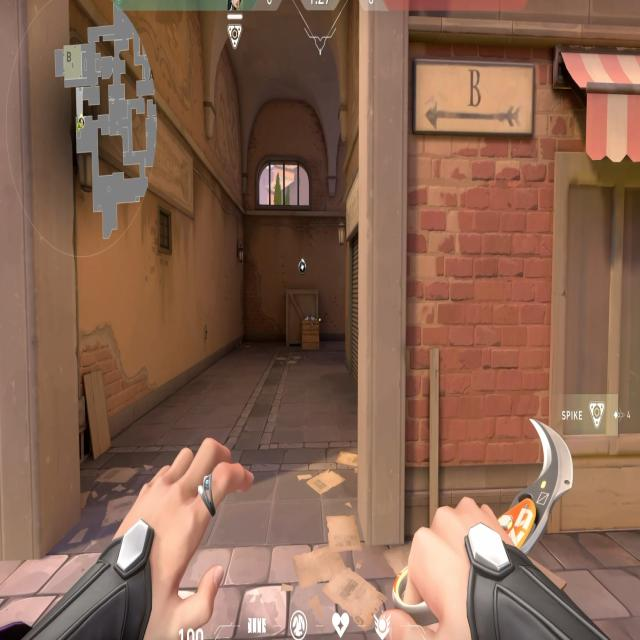B_Main_Wallbang: (278, 254, 329, 363)
Throwables: (254, 150, 314, 216)
